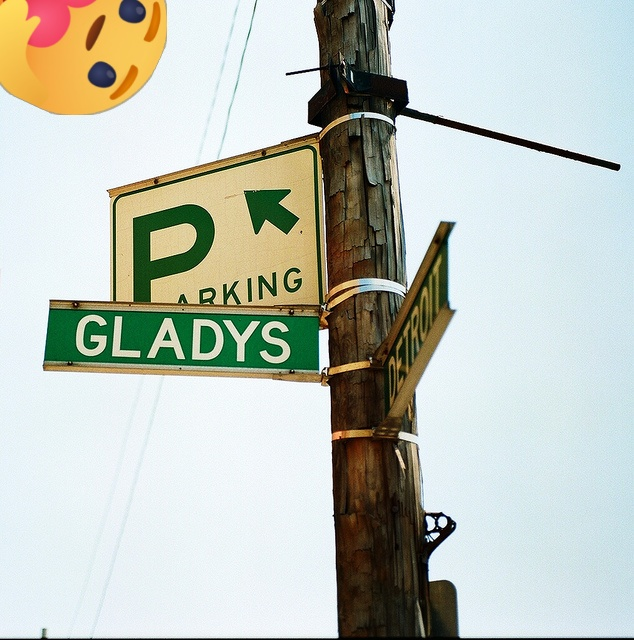care: (0, 0, 167, 115)
